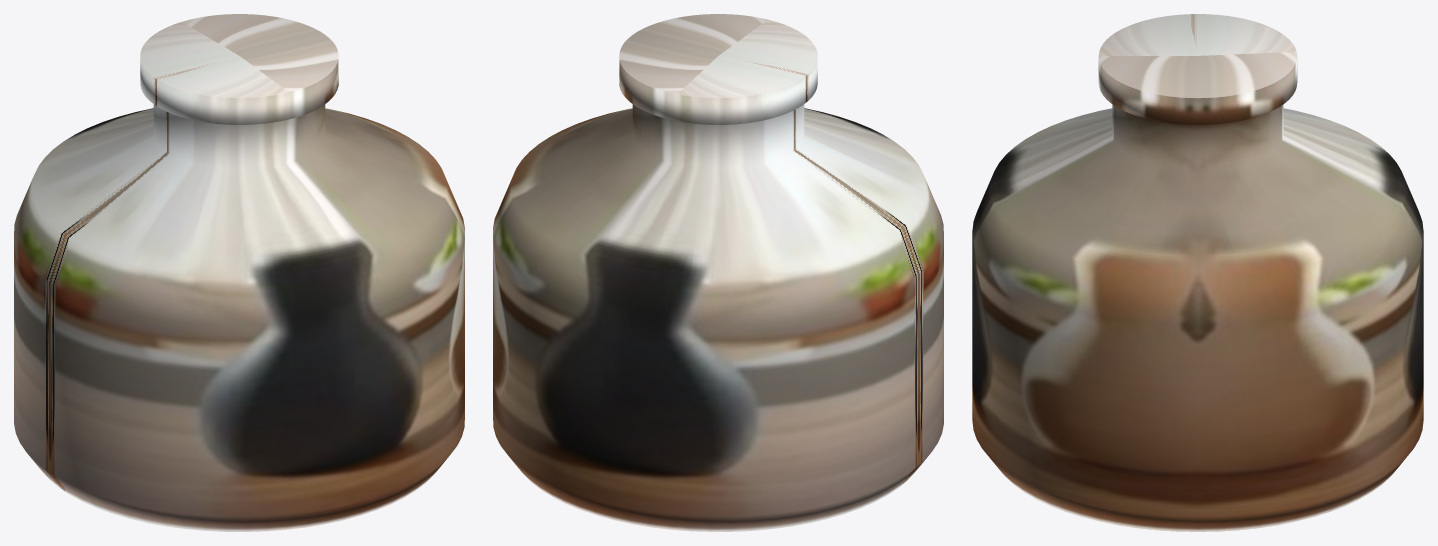
The model's file is ORI-42.glb.
The picture shows the model from 3 angles, left to right: view 1: azimuth 30°, elevation 25°; view 2: azimuth 150°, elevation 25°; view 3: azimuth 270°, elevation 25°; orthographic projection.
Size of the model in its own units: 0.07 by 0.0665 by 0.07.
Materials: 1 (1 with a texture image).
